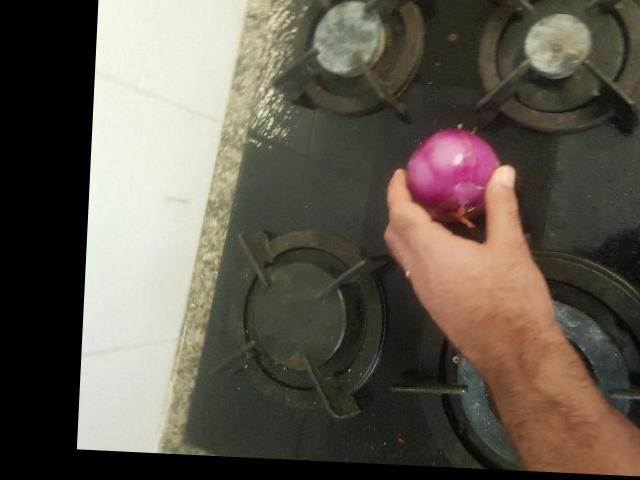onion: (236, 41, 330, 148)
